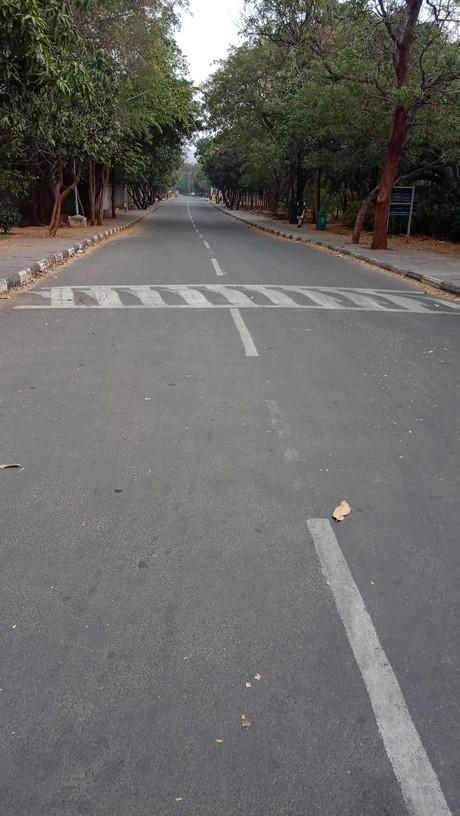speed-bump: (14, 286, 459, 312)
